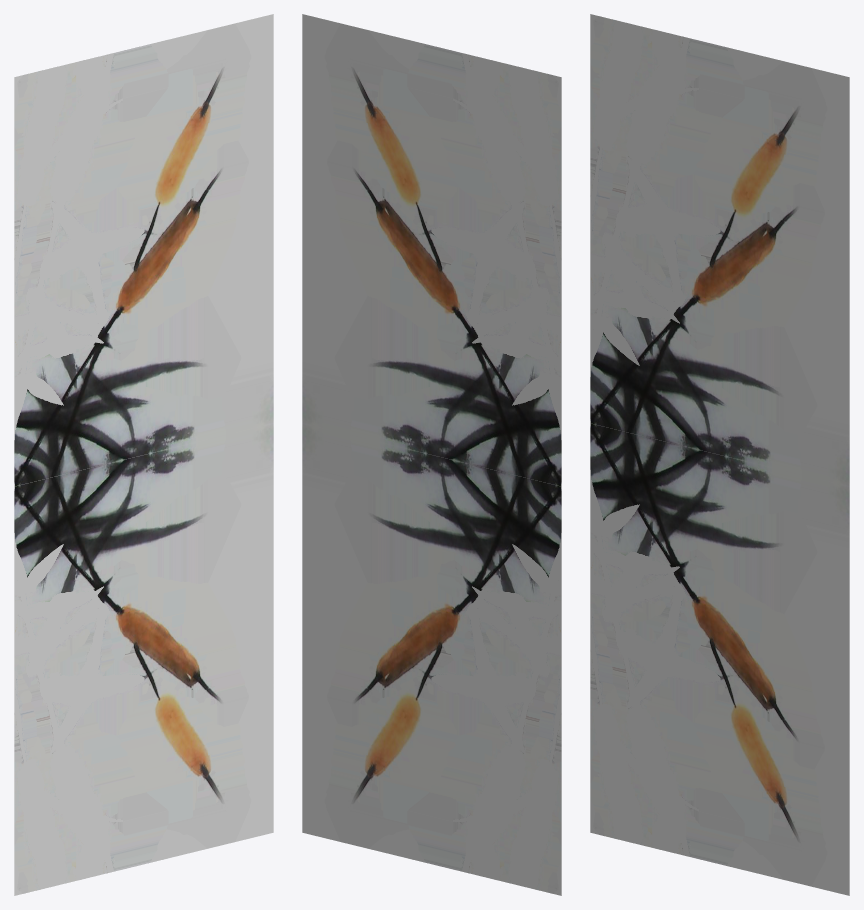
The model's file is PPX_REED12.fbx.
3 views of the same model, side by side, from view 1: azimuth 30°, elevation 25°; view 2: azimuth 150°, elevation 25°; view 3: azimuth 330°, elevation 25° (orthographic).
Visible parts, largest first — view 1: 图层 9.png, 图层 9.png_2; view 2: 图层 9.png, 图层 9.png_2; view 3: 图层 9.png, 图层 9.png_2.
Part boxes in pixels (box(x1,y1,x2,y2)): 图层 9.png: box(14, 14, 273, 486); 图层 9.png_2: box(14, 423, 273, 895); 图层 9.png: box(302, 14, 561, 486); 图层 9.png_2: box(302, 423, 561, 895); 图层 9.png: box(590, 14, 849, 486); 图层 9.png_2: box(590, 423, 849, 895).
Size of the model in its own units: 82.93 by 0 by 250.
1 material, 1 textured.
